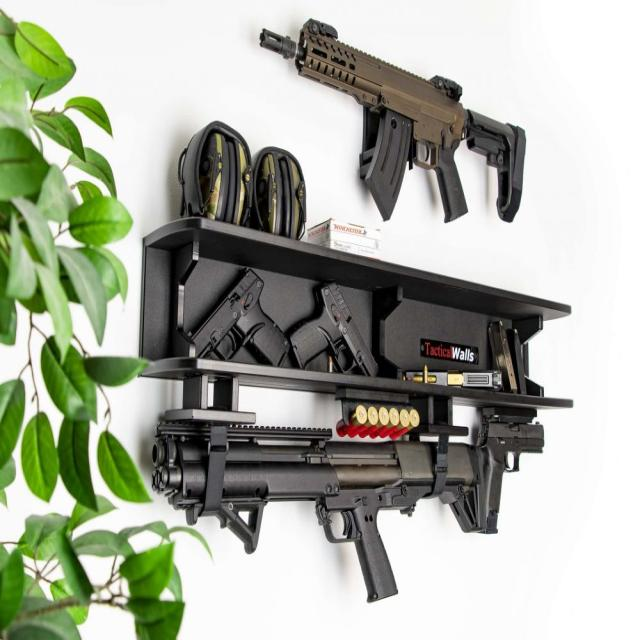HandGun: (184, 272, 287, 366), (290, 283, 379, 377), (484, 423, 544, 534)
Rifle: (260, 20, 525, 222)
ShotGun: (154, 421, 492, 603)
